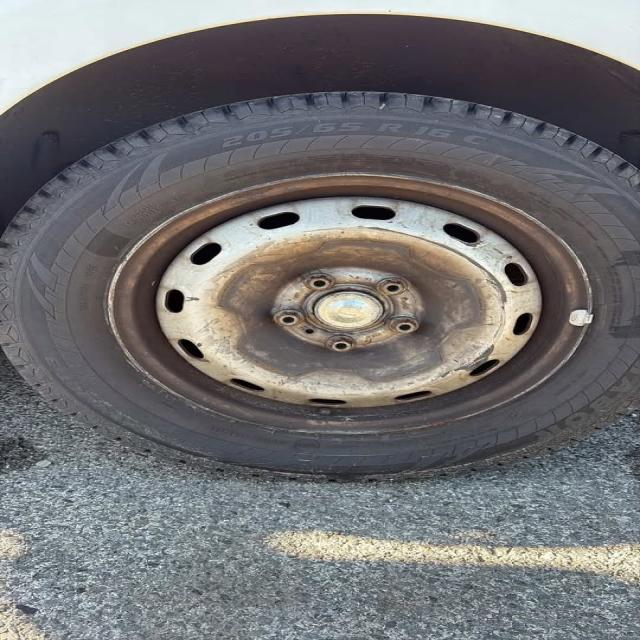jante: (105, 174, 596, 433)
parafuso: (366, 273, 416, 301), (262, 306, 311, 330), (320, 334, 365, 360), (376, 317, 426, 336), (298, 276, 340, 292)
roda: (0, 89, 640, 484)
